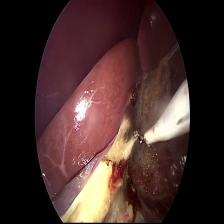Grasper: (156, 41, 183, 76)
Hook: (129, 78, 189, 153)
